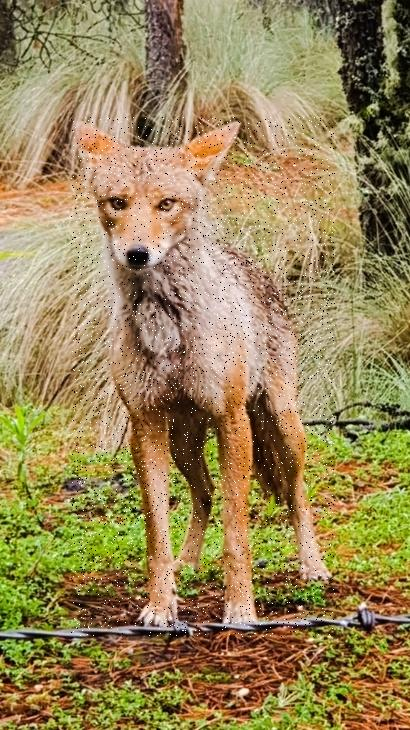Coyote: (71, 117, 335, 637)
